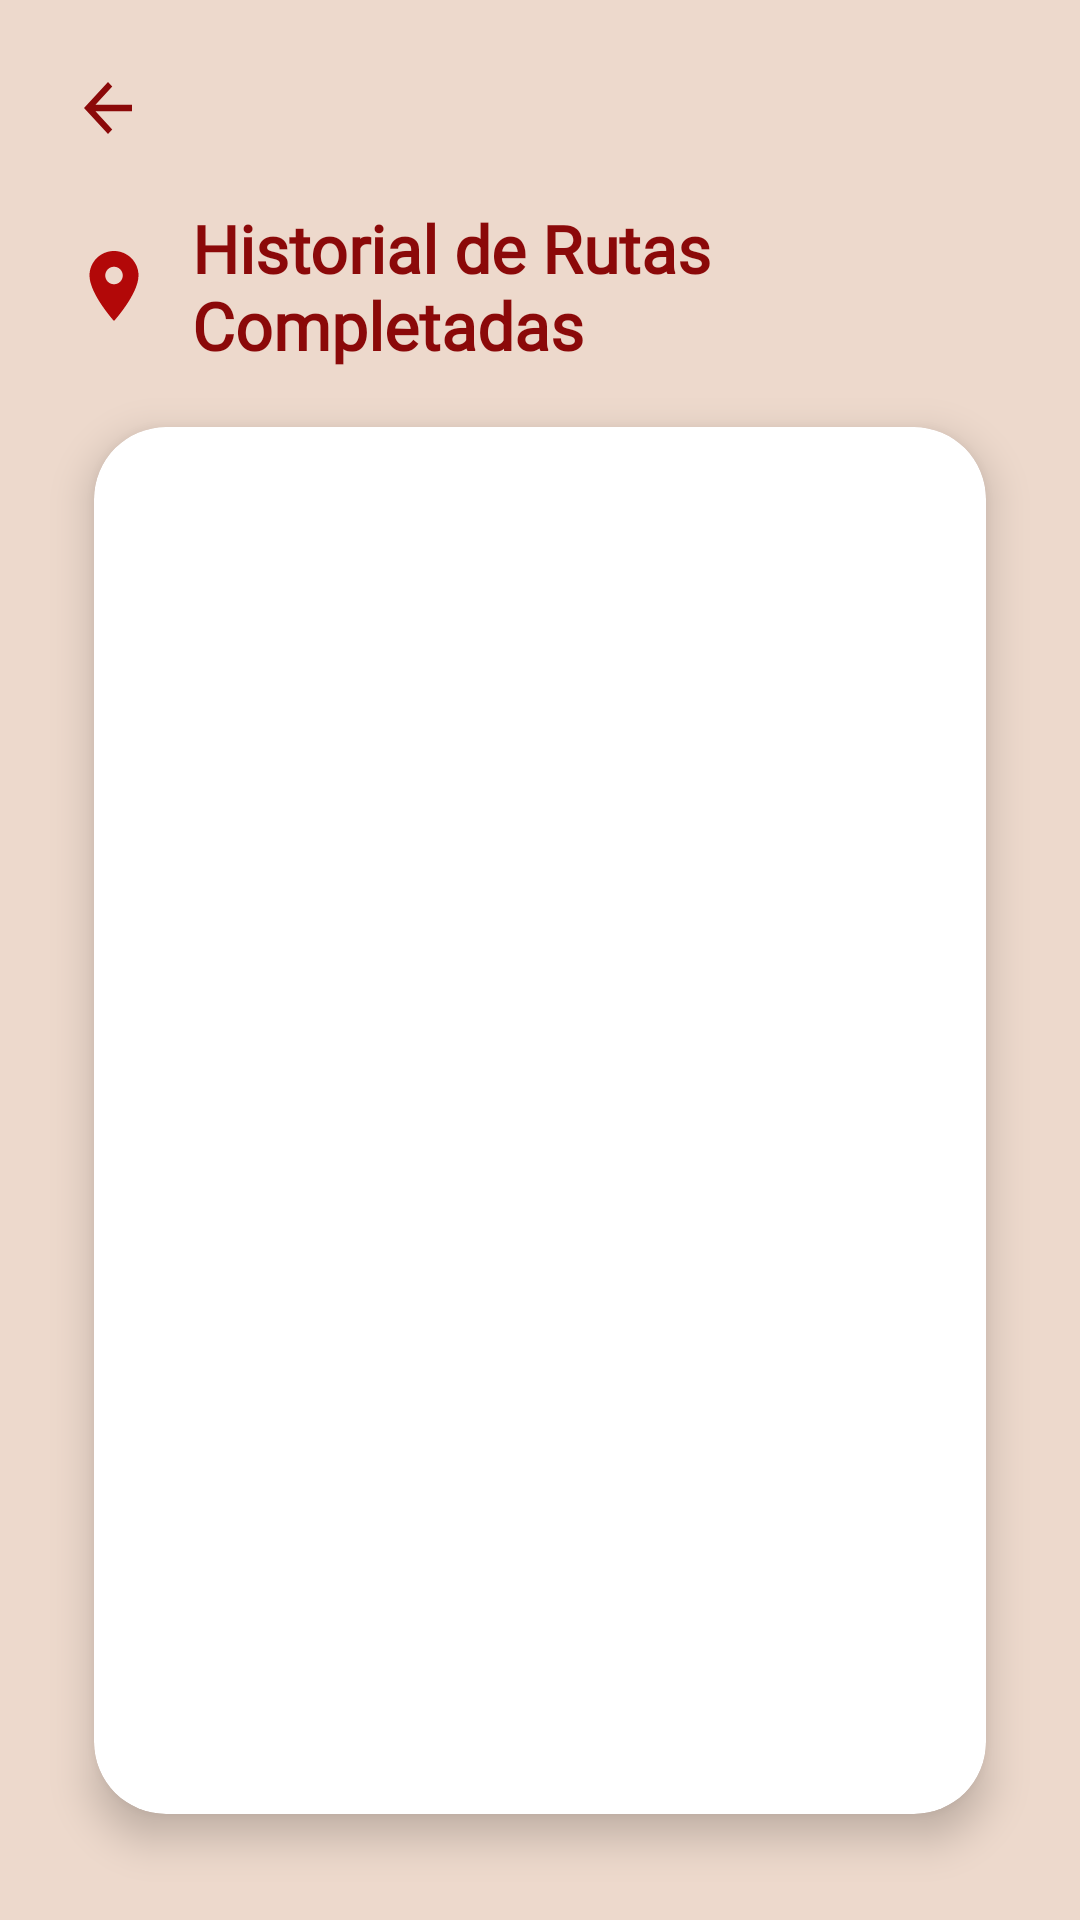

Icon click points for this 1080 × 1920 phone screenshot, format (x,y):
route: (114,286)
Volver: (108,108)
